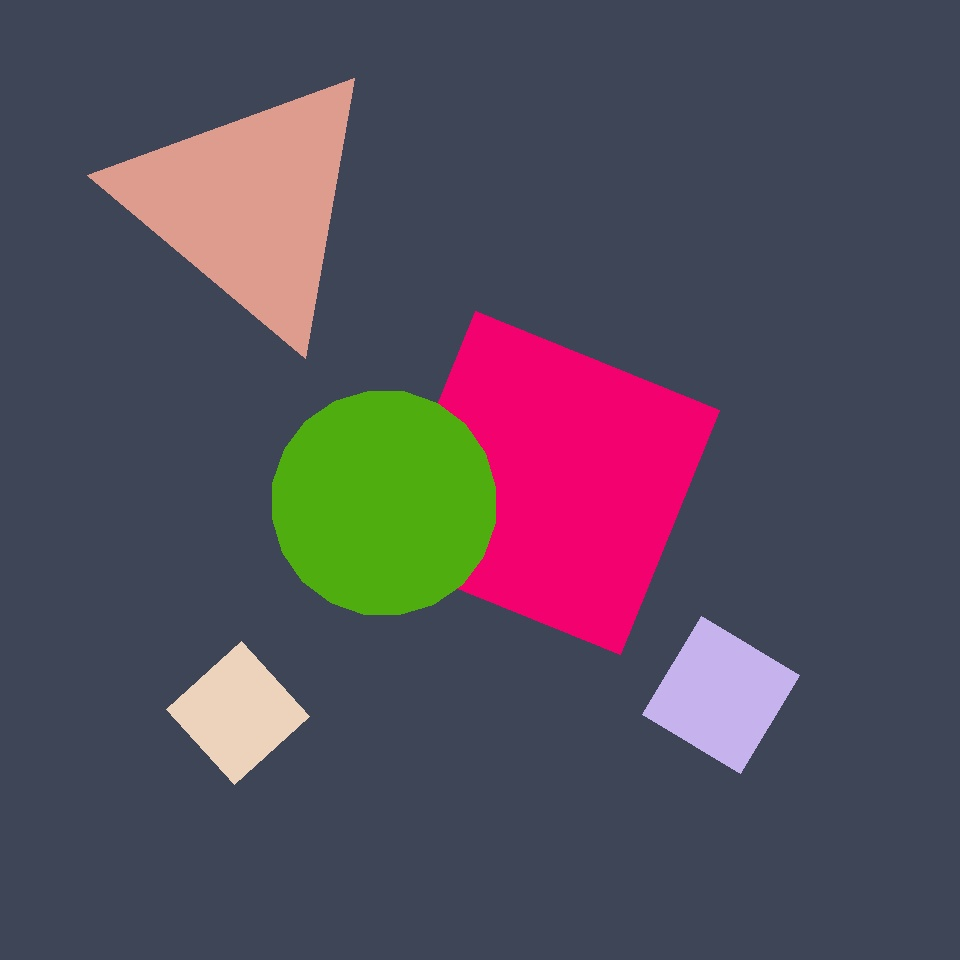circle: (116, 64, 382, 344), (254, 427, 487, 663)
square: (376, 312, 720, 655), (642, 616, 800, 774), (167, 642, 310, 784), (569, 289, 683, 402)
triangle: (272, 391, 496, 614)
